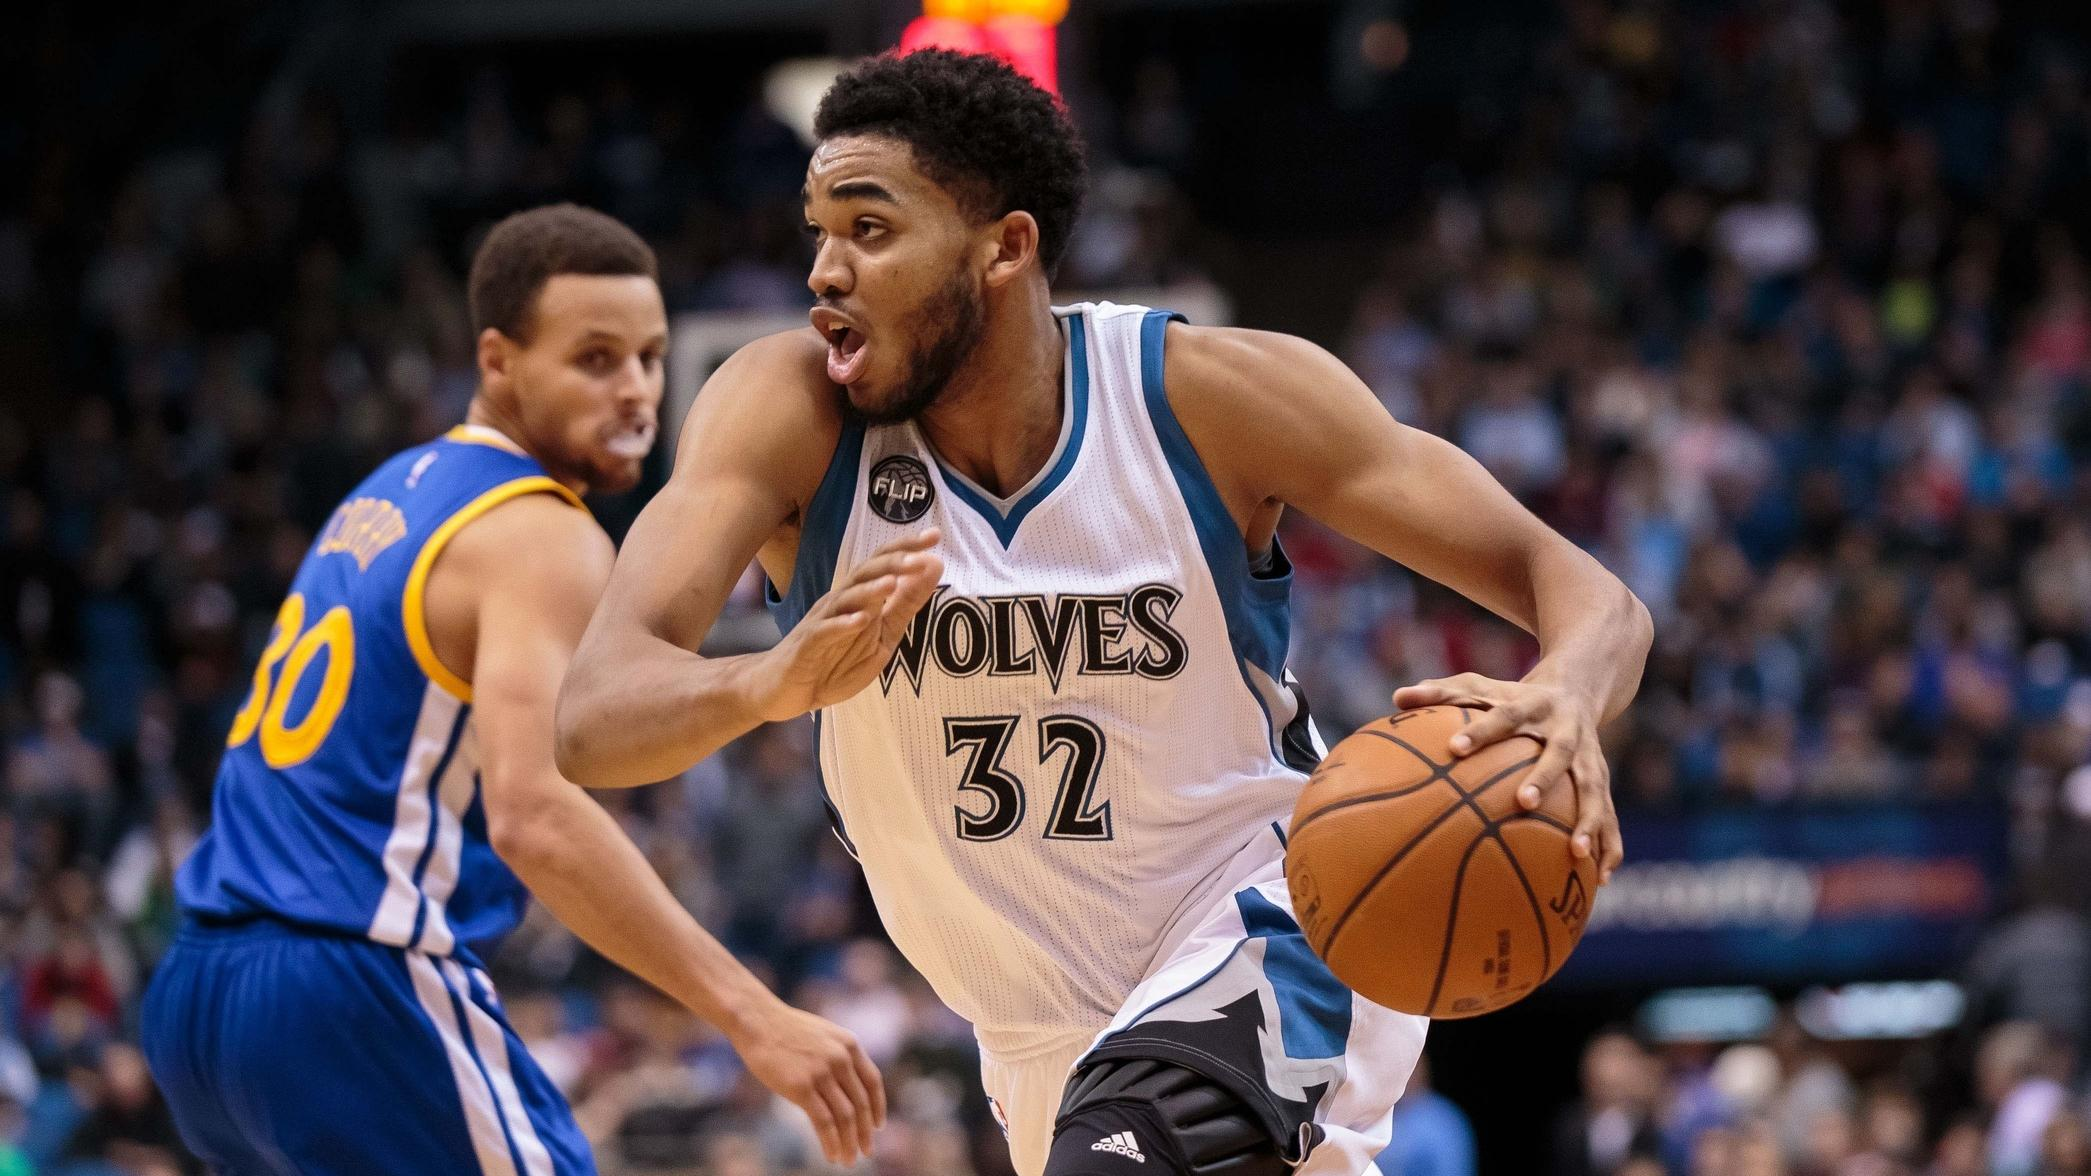basketball: (1291, 712, 1608, 1022)
